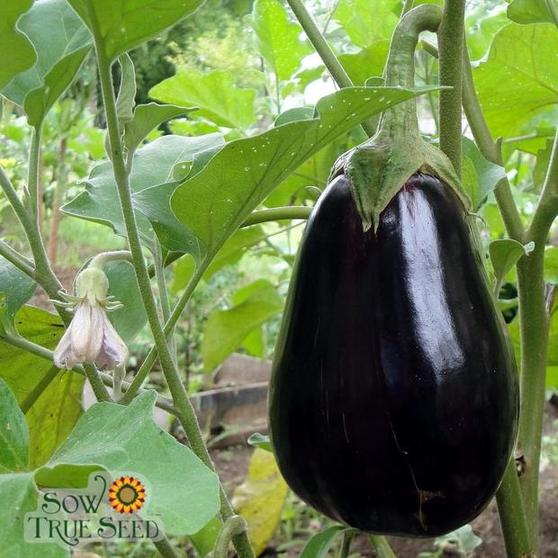eggplant: (266, 159, 518, 539)
